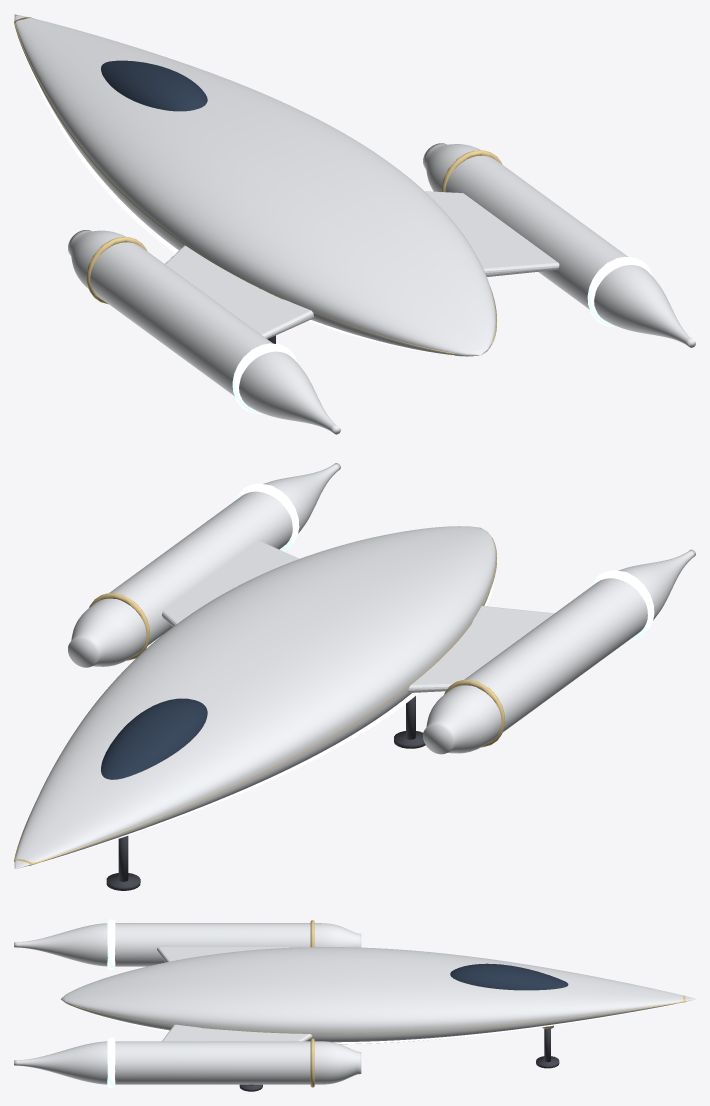
The model's file is courier-lod1.glb.
3 views of the same model, one above another, from view 1: azimuth 30°, elevation 25°; view 2: azimuth 150°, elevation 25°; view 3: azimuth 270°, elevation 25° (orthographic). The views are drawn at different scales.
Parts seen in each view (by area): view 1: Hull.001, Nacelle_Left.001, Nacelle_Right.001, Pylon_Left.001, Pylon_Right.001, Canopy.001, LightStrip.001, Exhaust_-1.001, Exhaust_1.001, TrimBelt.001; view 2: Hull.001, Nacelle_Left.001, Nacelle_Right.001, Canopy.001, Pylon_Left.001, Pylon_Right.001, LightStrip.001, TrimBelt.001, Exhaust_-1.001, Exhaust_1.001; view 3: Hull.001, Nacelle_Right.001, Nacelle_Left.001, Canopy.001, Pylon_Right.001, Pylon_Left.001, LightStrip.001, TrimBelt.001, Exhaust_1.001, Exhaust_-1.001.
Boxes of the visible parts, left/top/right/bottom form: Hull.001: left=14, top=14, right=496, bottom=356; Nacelle_Left.001: left=68, top=230, right=340, bottom=434; Nacelle_Right.001: left=423, top=143, right=695, bottom=347; Pylon_Left.001: left=165, top=245, right=313, bottom=338; Pylon_Right.001: left=425, top=191, right=559, bottom=276; Canopy.001: left=101, top=60, right=207, bottom=111; LightStrip.001: left=22, top=49, right=493, bottom=355; Exhaust_-1.001: left=232, top=343, right=297, bottom=413; Exhaust_1.001: left=587, top=256, right=652, bottom=327; TrimBelt.001: left=14, top=17, right=496, bottom=354; Hull.001: left=14, top=526, right=496, bottom=868; Nacelle_Left.001: left=423, top=549, right=695, bottom=754; Nacelle_Right.001: left=68, top=463, right=340, bottom=667; Canopy.001: left=101, top=698, right=207, bottom=779; Pylon_Left.001: left=408, top=606, right=554, bottom=692; Pylon_Right.001: left=162, top=540, right=299, bottom=626; LightStrip.001: left=35, top=574, right=495, bottom=864; TrimBelt.001: left=14, top=538, right=496, bottom=865; Exhaust_-1.001: left=590, top=570, right=654, bottom=640; Exhaust_1.001: left=235, top=483, right=299, bottom=551; Hull.001: left=61, top=947, right=695, bottom=1044; Nacelle_Right.001: left=14, top=1041, right=361, bottom=1084; Nacelle_Left.001: left=14, top=923, right=361, bottom=966; Canopy.001: left=450, top=963, right=568, bottom=990; Pylon_Right.001: left=162, top=1024, right=312, bottom=1041; Pylon_Left.001: left=157, top=947, right=289, bottom=962; LightStrip.001: left=71, top=1002, right=681, bottom=1043; TrimBelt.001: left=71, top=995, right=685, bottom=1033; Exhaust_1.001: left=107, top=1037, right=115, bottom=1088; Exhaust_-1.001: left=107, top=919, right=115, bottom=970.
Size of the model in its own units: 15.62 by 4.99 by 32.2.
